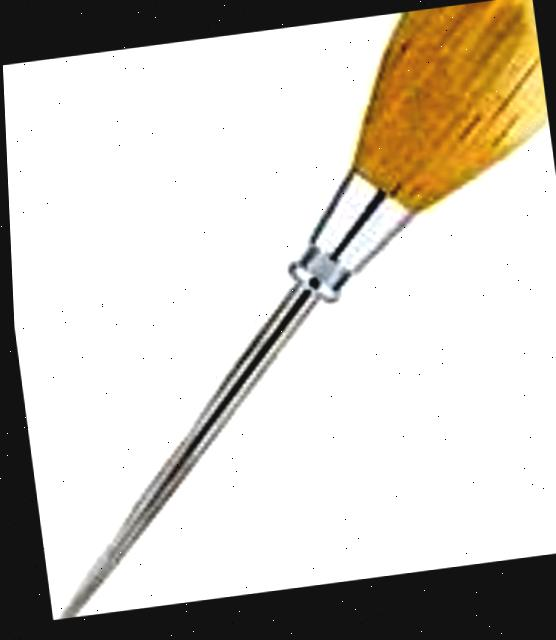ice pick: (1, 0, 556, 621)
